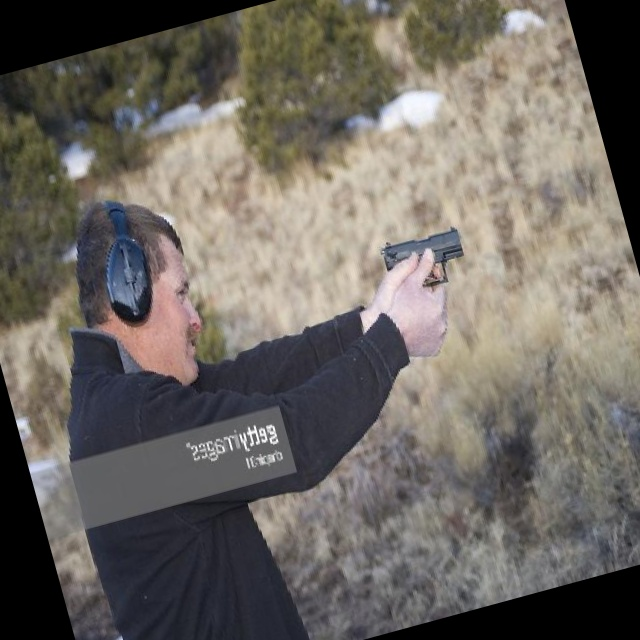gun: (369, 216, 480, 302)
